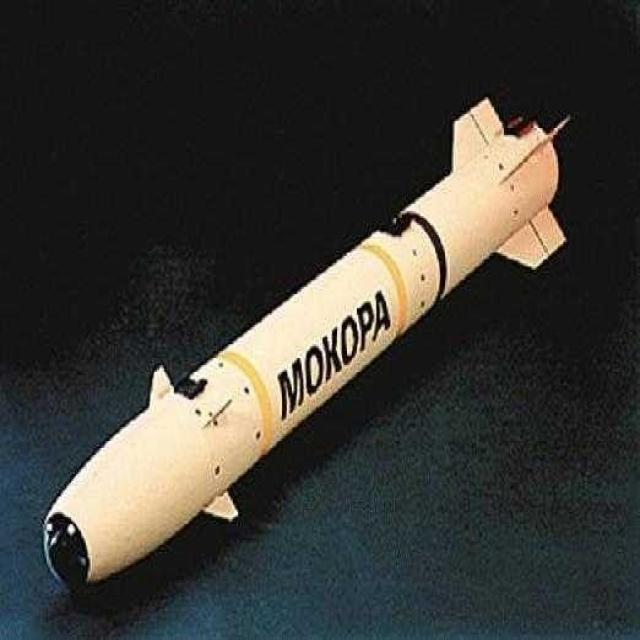missile: (44, 100, 566, 603)
